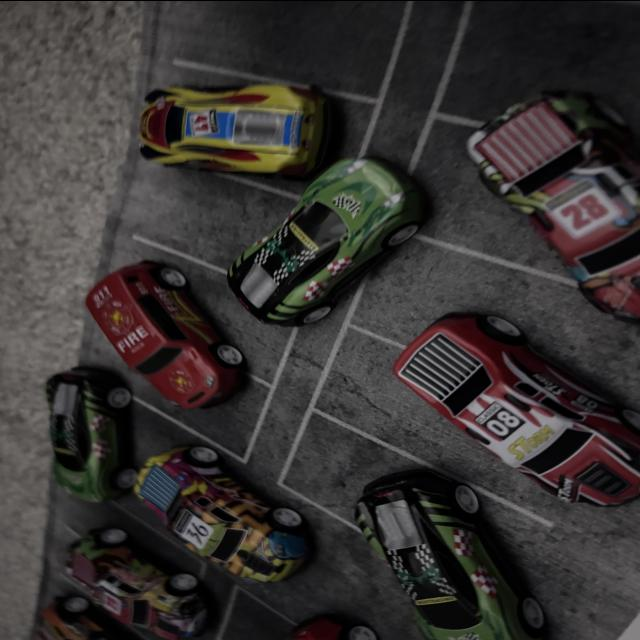Car: (371, 276, 640, 542), (444, 62, 640, 347), (209, 162, 427, 372), (324, 459, 572, 640), (99, 242, 287, 410), (0, 366, 154, 520), (78, 529, 232, 636), (119, 484, 292, 560), (110, 100, 290, 172), (268, 596, 472, 640)
